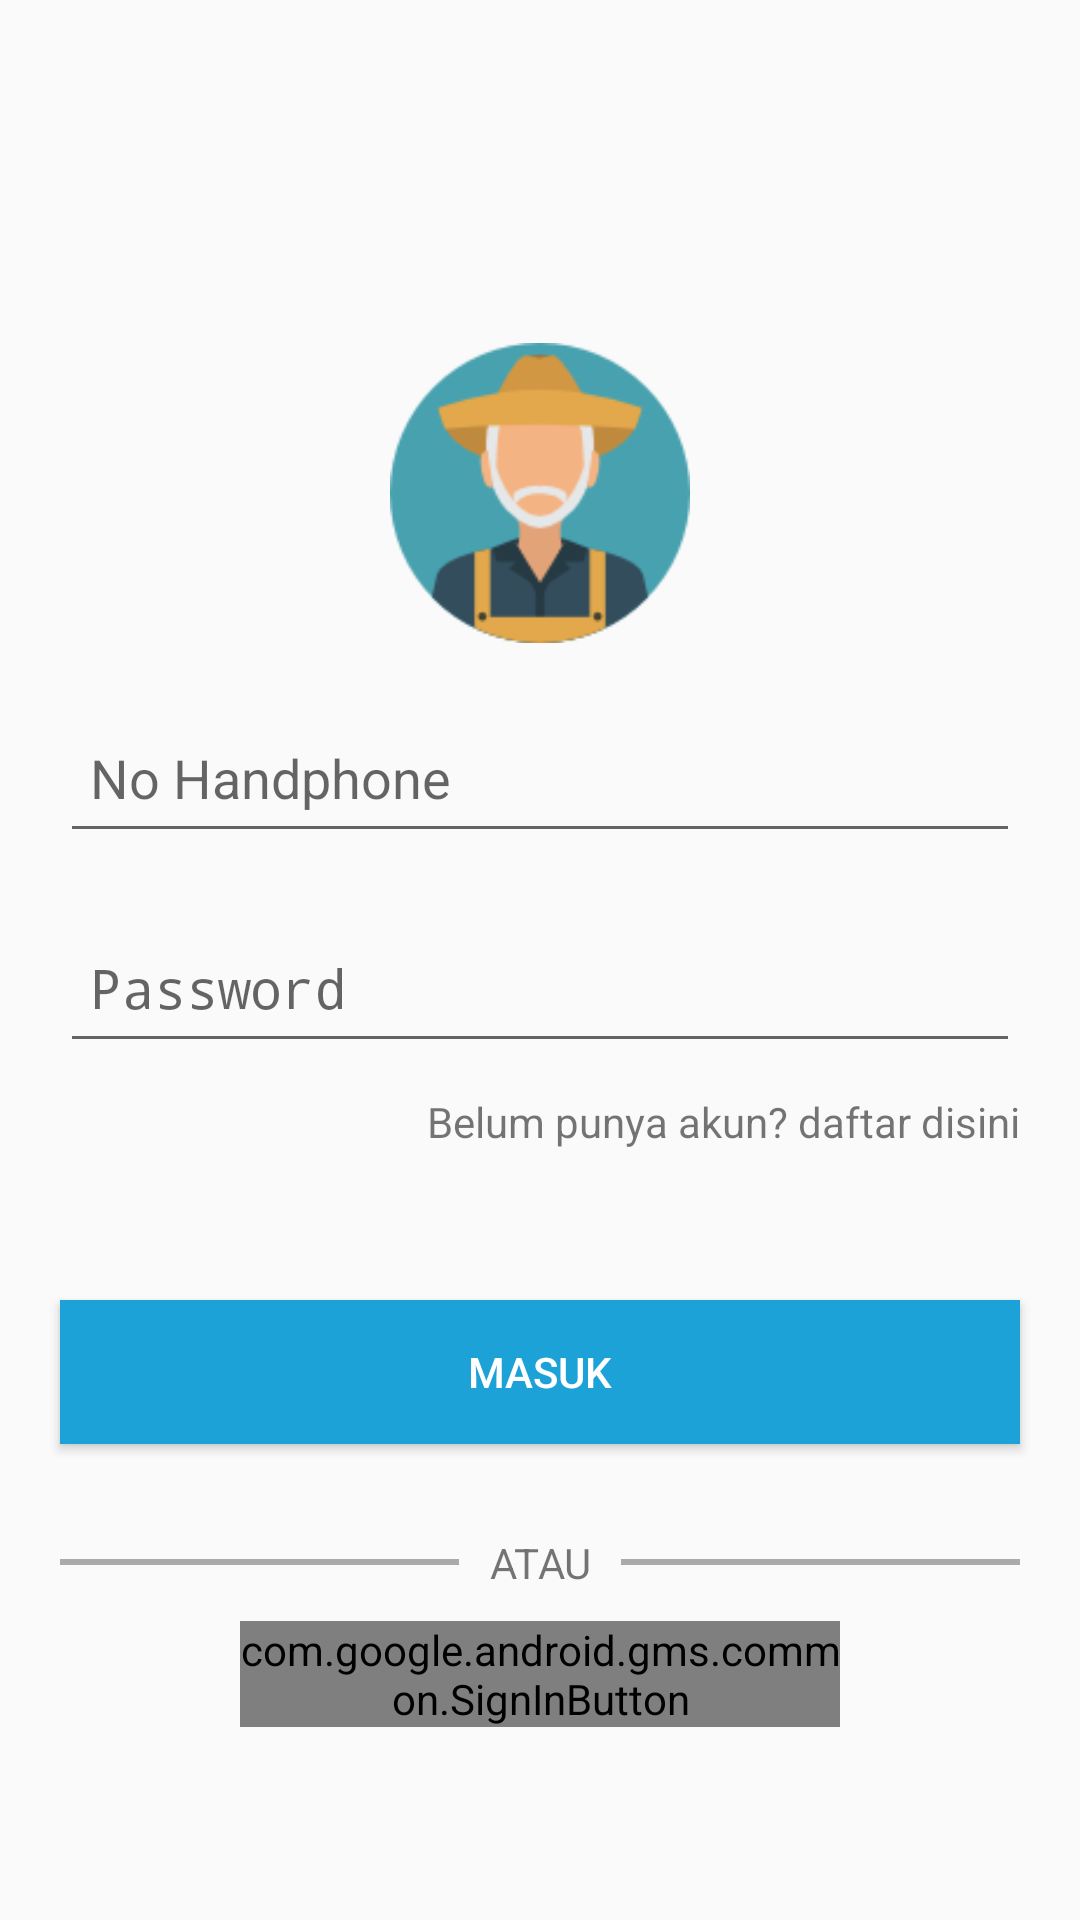

Named icons in this screenshot (1080×1920) and their bounding boxes, (x1, y1, x2, y2):
user: (390, 343, 690, 643)
